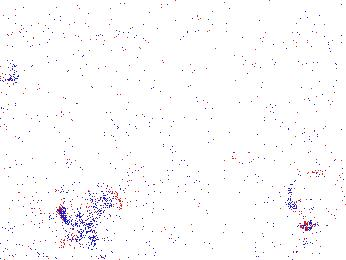flame jellyfish: (58, 179, 123, 238), (290, 170, 344, 233), (1, 45, 20, 84)
